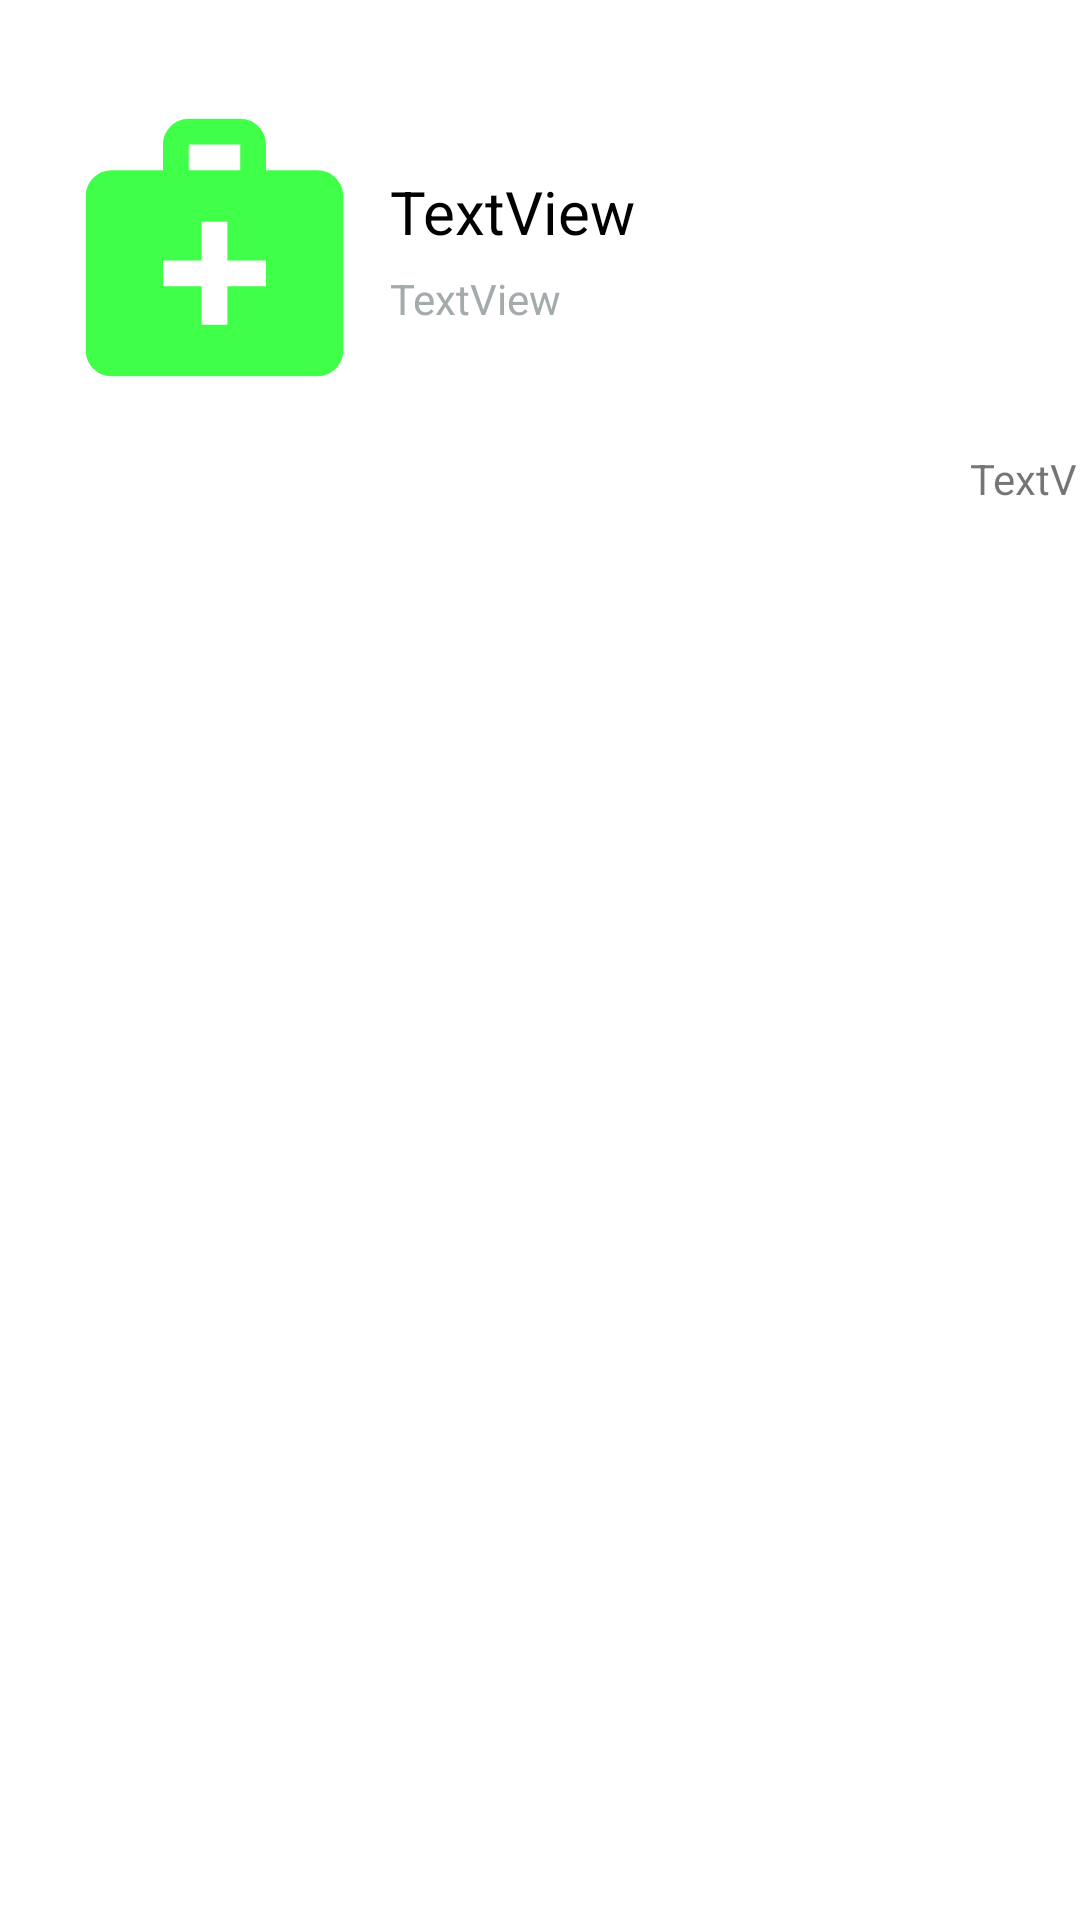

Icon click points for this 1080px x 1920px phone screenshot, format point (x, y):
medical services: point (214, 247)
